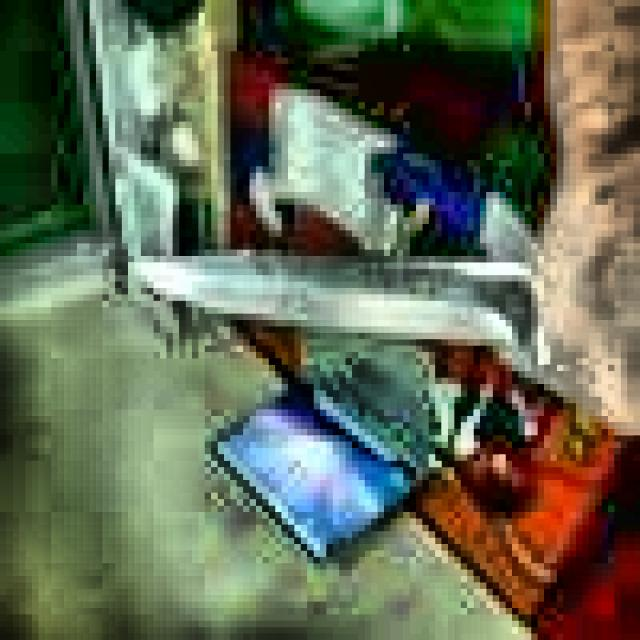knife: (136, 252, 554, 371)
